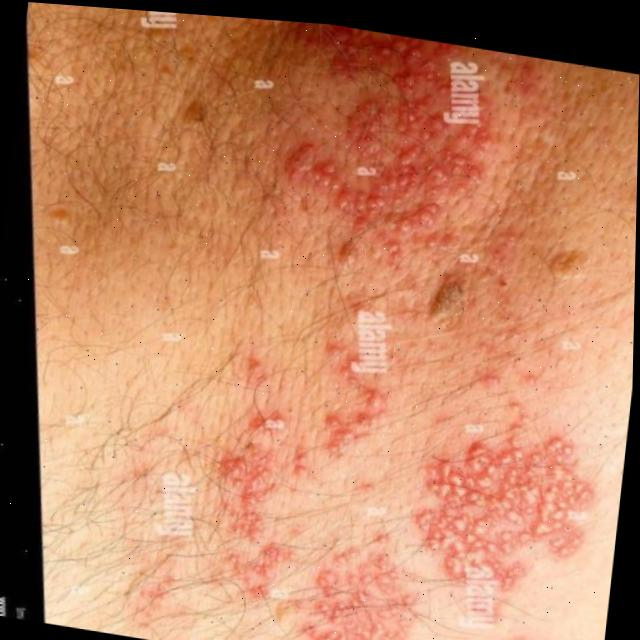Shingles: (247, 73, 470, 260), (406, 433, 590, 594), (204, 425, 273, 600), (292, 540, 390, 640), (308, 379, 389, 468)
